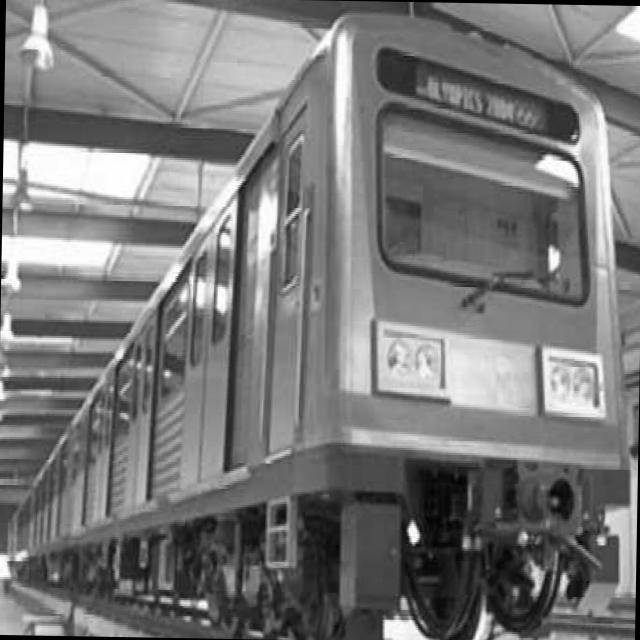2001: (375, 101, 581, 300), (375, 45, 576, 138), (159, 278, 185, 381)
ceiling beam: (0, 0, 640, 511)
door bars: (265, 102, 305, 449)
doors crop: (177, 189, 236, 488), (123, 307, 154, 507), (90, 366, 111, 520)
lamp crop: (14, 0, 51, 67), (7, 169, 30, 207)
lamp occluded: (613, 5, 640, 39)
platform: (380, 584, 632, 640), (0, 587, 189, 634)
train crop: (7, 7, 626, 639)
wall clock: (584, 342, 638, 613), (0, 507, 15, 586)
